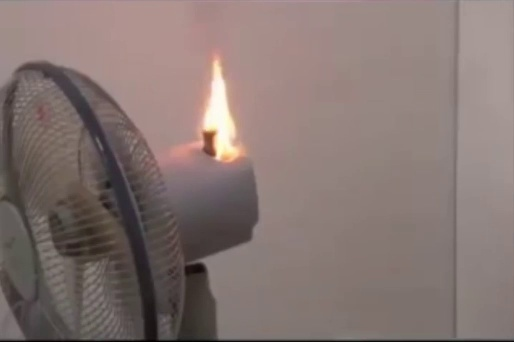fire: (196, 55, 244, 162)
